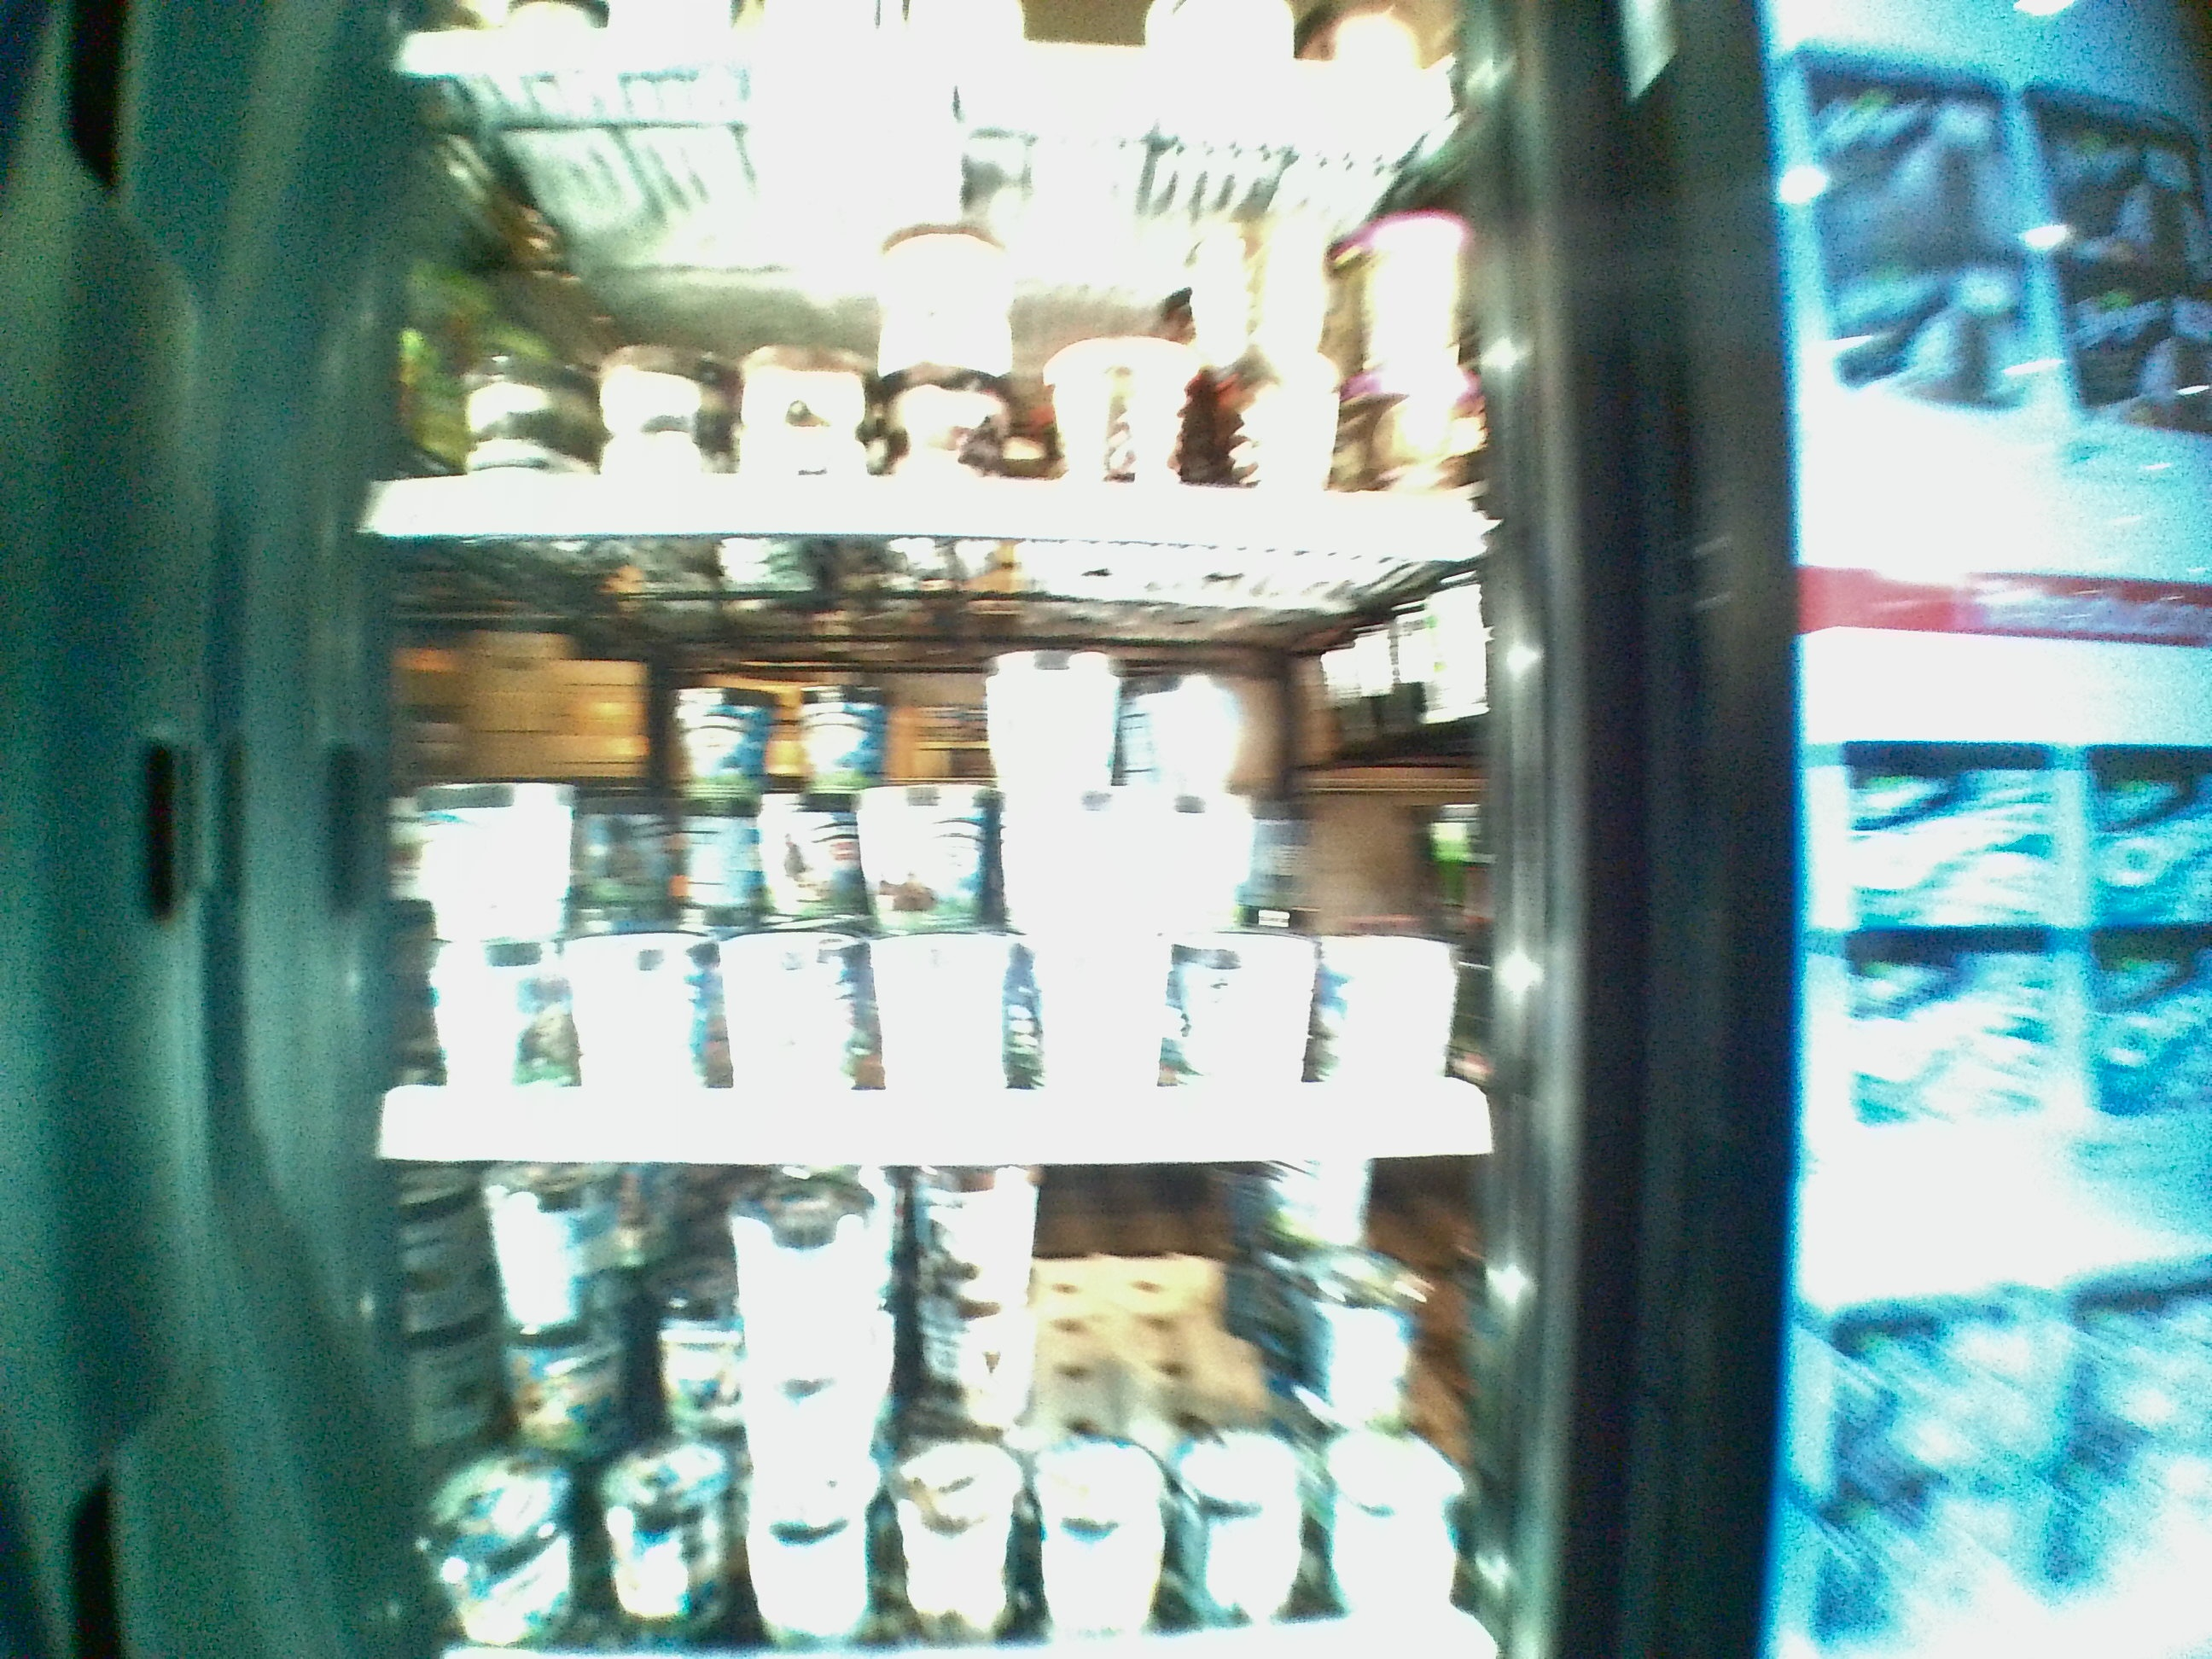shelf: (369, 552, 1491, 1161), (369, 85, 1475, 542)
